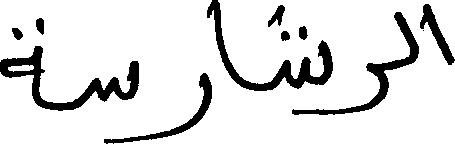X: (153, 0, 212, 143), (286, 21, 332, 119), (0, 13, 39, 110), (97, 56, 139, 143), (423, 0, 454, 69), (393, 7, 418, 73), (214, 0, 231, 82), (365, 58, 387, 114)
